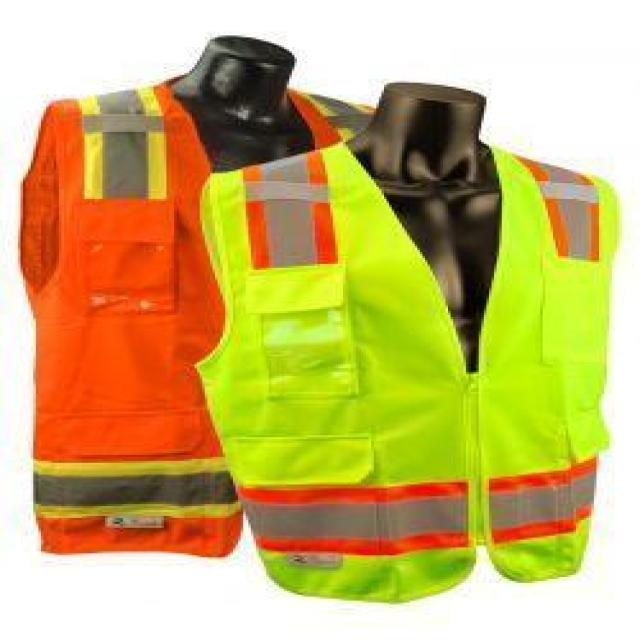Vest: (192, 136, 614, 591), (16, 77, 377, 567)
